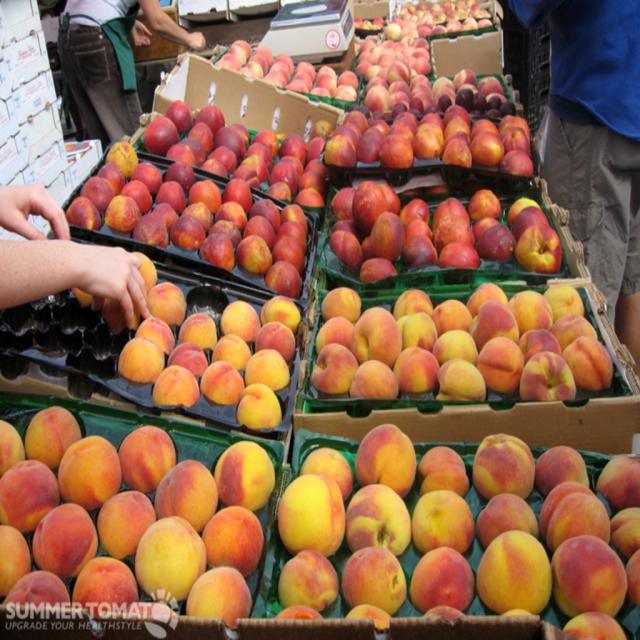Peach: (277, 421, 639, 639), (0, 405, 276, 626), (70, 252, 302, 426), (64, 141, 309, 298), (306, 283, 612, 403), (321, 0, 532, 168), (333, 179, 560, 284), (145, 101, 324, 206), (216, 39, 358, 106)
